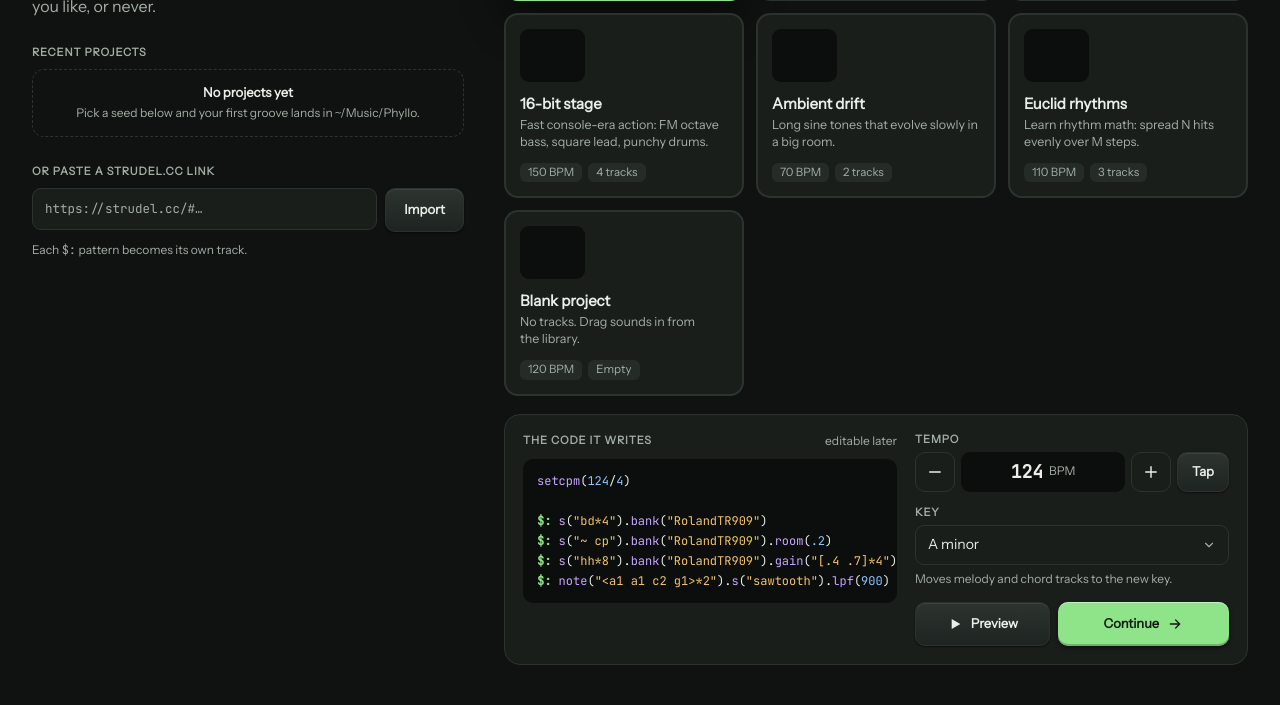
Test: StarterPicker › should clamp a typed tempo to 40-240 when committed with Enter
The image size is (1280, 705).
(page scrolled)
Replace the text in the field named "Tempo in BPM" with "999" at coordinates (1027, 472), box [1011,462,1043,482]
Then press Enter
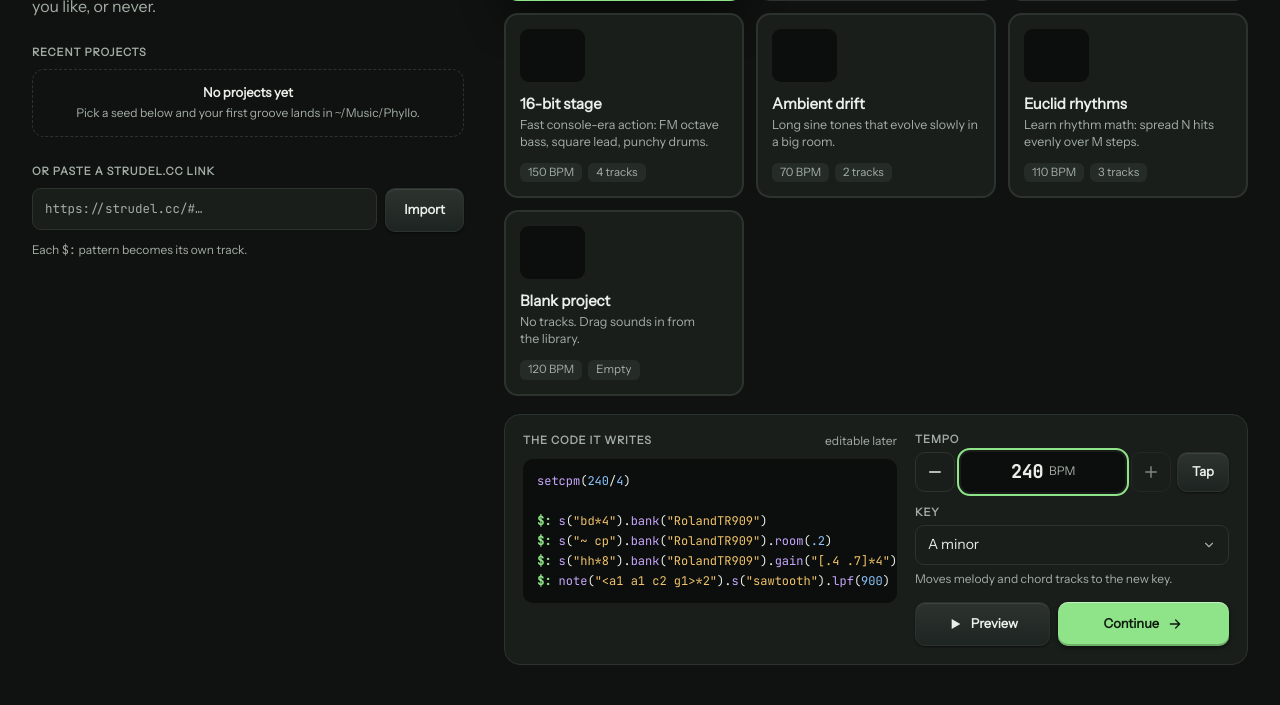
Expected: the field named "Tempo in BPM" holds "240", [1011,462,1043,482]
Expected: the field named "The code it writes" shows "setcpm(240/4)", [523,459,897,603]
Expected: the button named "Faster" is disabled, [1131,452,1171,492]
